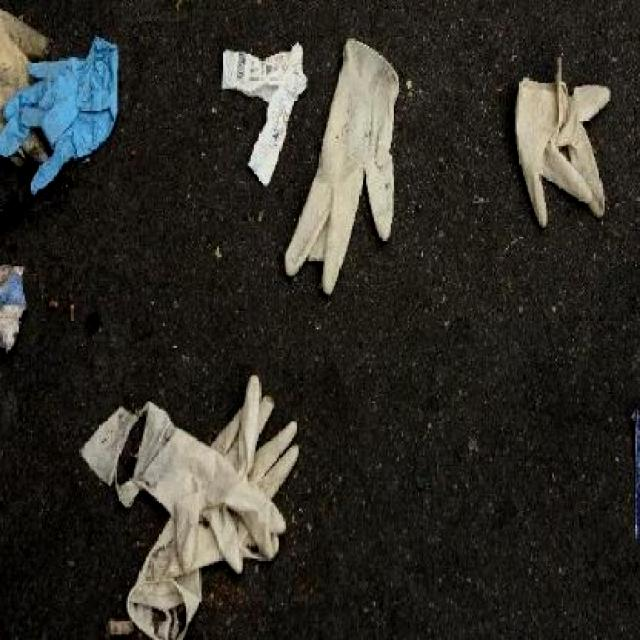glove: (79, 378, 304, 638), (281, 19, 422, 303), (1, 24, 127, 202), (498, 67, 613, 248)
